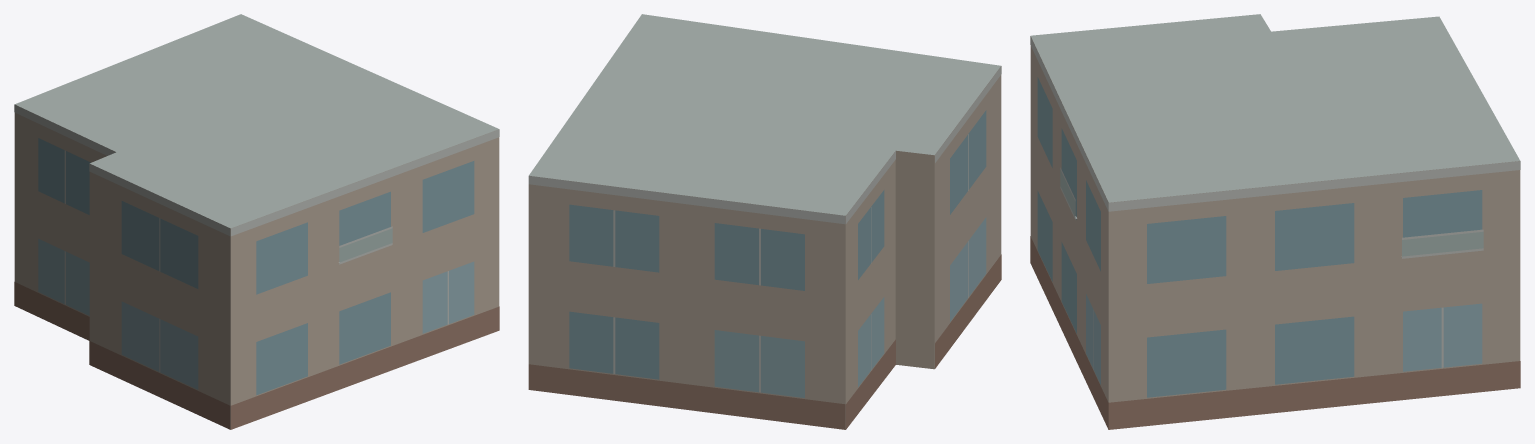
File: survey-upis-32925317.glb
The picture shows the model from 3 angles, left to right: view 1: azimuth 30°, elevation 25°; view 2: azimuth 150°, elevation 25°; view 3: azimuth 270°, elevation 25°; orthographic projection. The views are drawn at different scales.
Parts seen in each view (by area): view 1: survey-upis-32925317.tmp; view 2: survey-upis-32925317.tmp; view 3: survey-upis-32925317.tmp.
Boxes of the visible parts, bbox=[...] form: survey-upis-32925317.tmp: bbox=[14, 14, 499, 429]; survey-upis-32925317.tmp: bbox=[528, 14, 1001, 429]; survey-upis-32925317.tmp: bbox=[1030, 14, 1520, 429].
Bounding box in the file's own units: 10.87 × 6.1 × 11.93.
